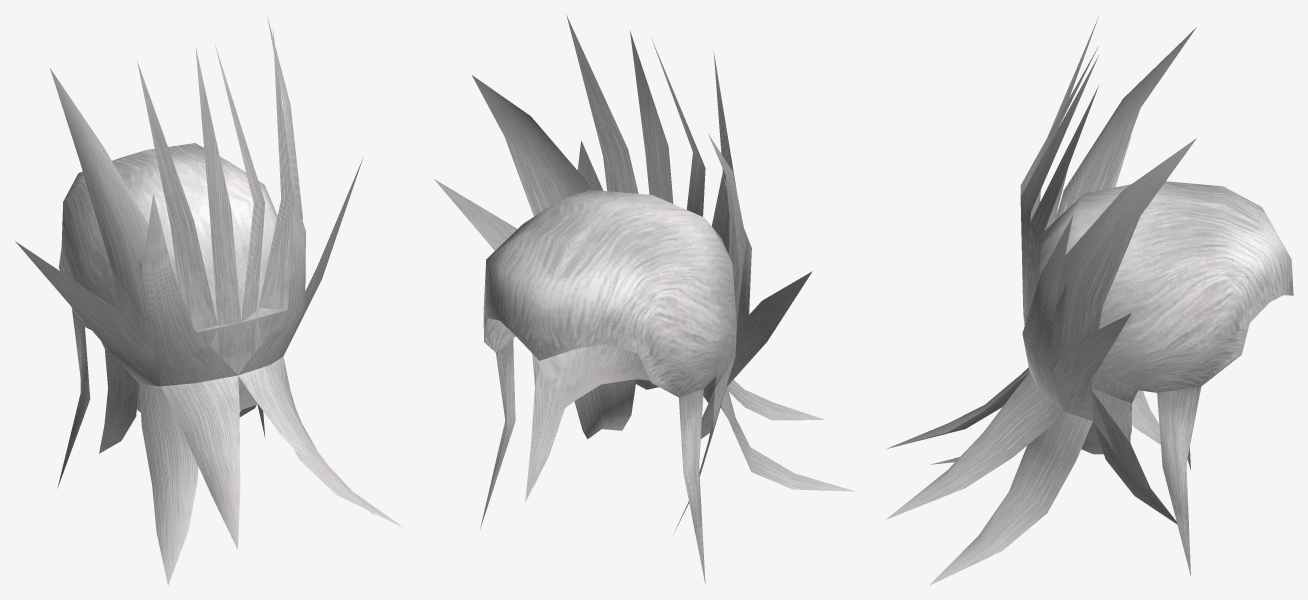
File: Martial arts men's hair 30.glb
The picture shows the model from 3 angles, left to right: view 1: azimuth 30°, elevation 25°; view 2: azimuth 150°, elevation 25°; view 3: azimuth 270°, elevation 25°; orthographic projection. The views are drawn at different scales.
Visible parts, largest first — view 1: 武侠男头发31_0; view 2: 武侠男头发31_0; view 3: 武侠男头发31_0.
Boxes of the visible parts, x1,y1,x2,y2 form: 武侠男头发31_0: (15, 16, 403, 585); 武侠男头发31_0: (434, 15, 855, 585); 武侠男头发31_0: (886, 16, 1293, 585).
Size of the model in its own units: 0.3041 by 0.3777 by 0.2932.
Materials: 1 (1 with a texture image).
